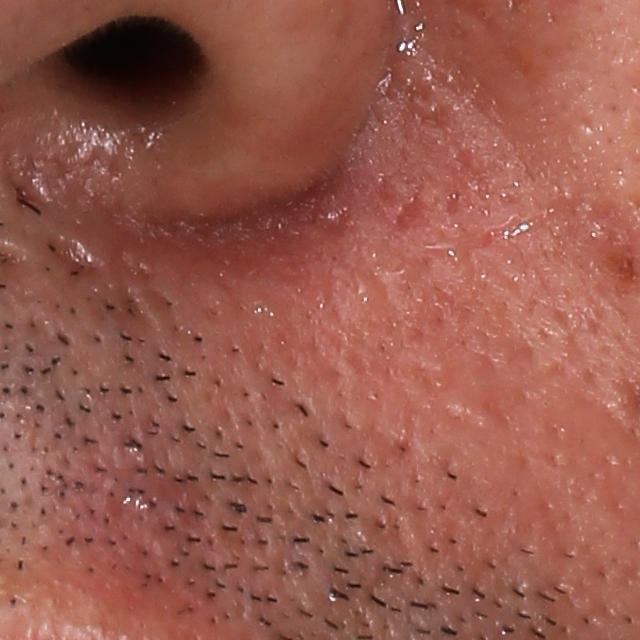atrophic_scar: (46, 233, 102, 276), (5, 160, 51, 209), (310, 191, 359, 234)
